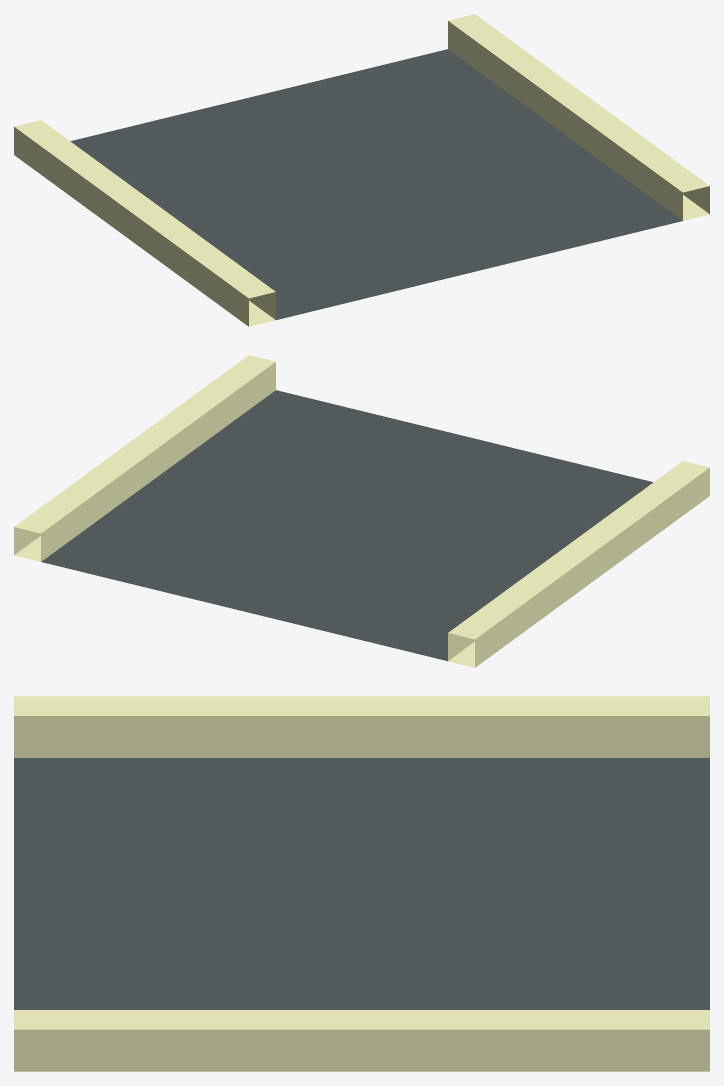
Rendered from road_edge2_vertical.fbx.
3 views of the same model, one above another, from view 1: azimuth 30°, elevation 25°; view 2: azimuth 150°, elevation 25°; view 3: azimuth 270°, elevation 25° (orthographic). The views are drawn at different scales.
Visible parts, largest first — view 1: pPlane1, pPlane2; view 2: pPlane1, pPlane2; view 3: pPlane1, pPlane2.
Boxes of the visible parts, <box> form: pPlane1: <box>70,49,682,320</box>; pPlane2: <box>14,14,709,326</box>; pPlane1: <box>41,390,653,661</box>; pPlane2: <box>14,355,709,667</box>; pPlane1: <box>14,758,709,1009</box>; pPlane2: <box>14,696,709,1071</box>.
Size of the model in its own units: 113 by 6.67 by 100.
